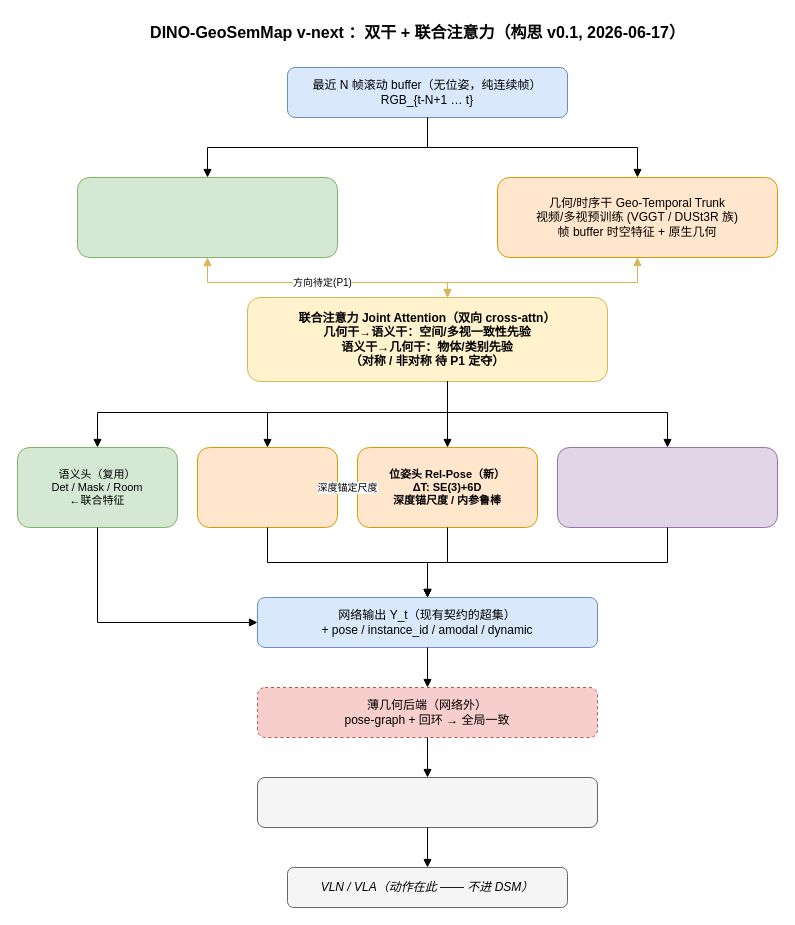
This 795x925 diagram has some shape labels left out. The shapes that lost their labels are listed below. From the top down, each one's centre as x and y in pixels, then its label:
pixel 207 217: 语义干 Semantic Trunk DINOv2 ViT (frozen + LoRA) 逐帧 patch 特征
pixel 267 487: 深度头 Depth 米制（几何干精修）
pixel 667 487: 预测头 ×3（新，去动作） Nowcast 稳化 / Amodal 补全 / 动态外推
pixel 427 802: 下游 GSM / ASM（可吃 DSM 自产位姿） → 物体级 3D 语义地图
